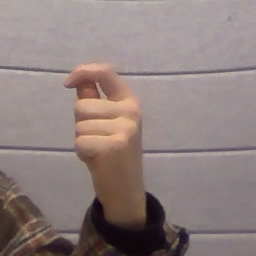T: (60, 61, 150, 181)
